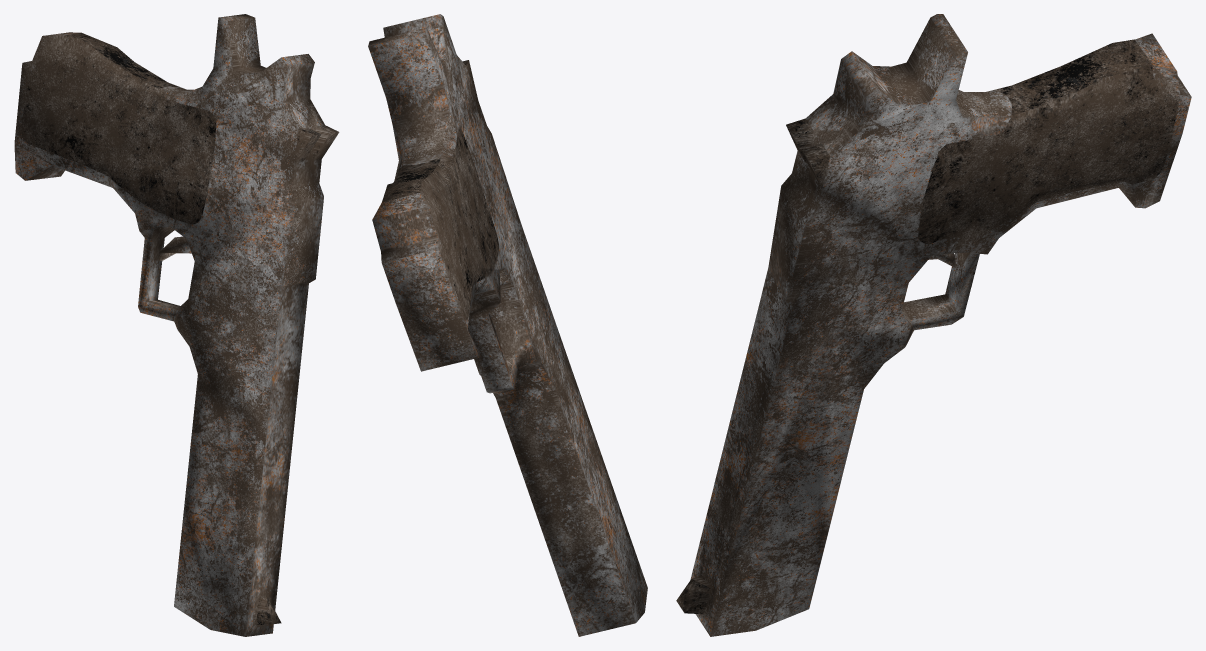
The model's file is Anim_disparar_pistola_objetos.0035.obj.
The picture shows the model from 3 angles, left to right: view 1: azimuth 30°, elevation 25°; view 2: azimuth 150°, elevation 25°; view 3: azimuth 270°, elevation 25°; orthographic projection. The views are drawn at different scales.
Visible parts, largest first — view 1: Pistola1; view 2: Pistola1; view 3: Pistola1.
Boxes of the visible parts, x1,y1,x2,y2 form: Pistola1: (14,14,339,636); Pistola1: (368,14,647,636); Pistola1: (676,14,1191,636).
Bounding box in the file's own units: 0.61 × 1.66 × 1.19.
